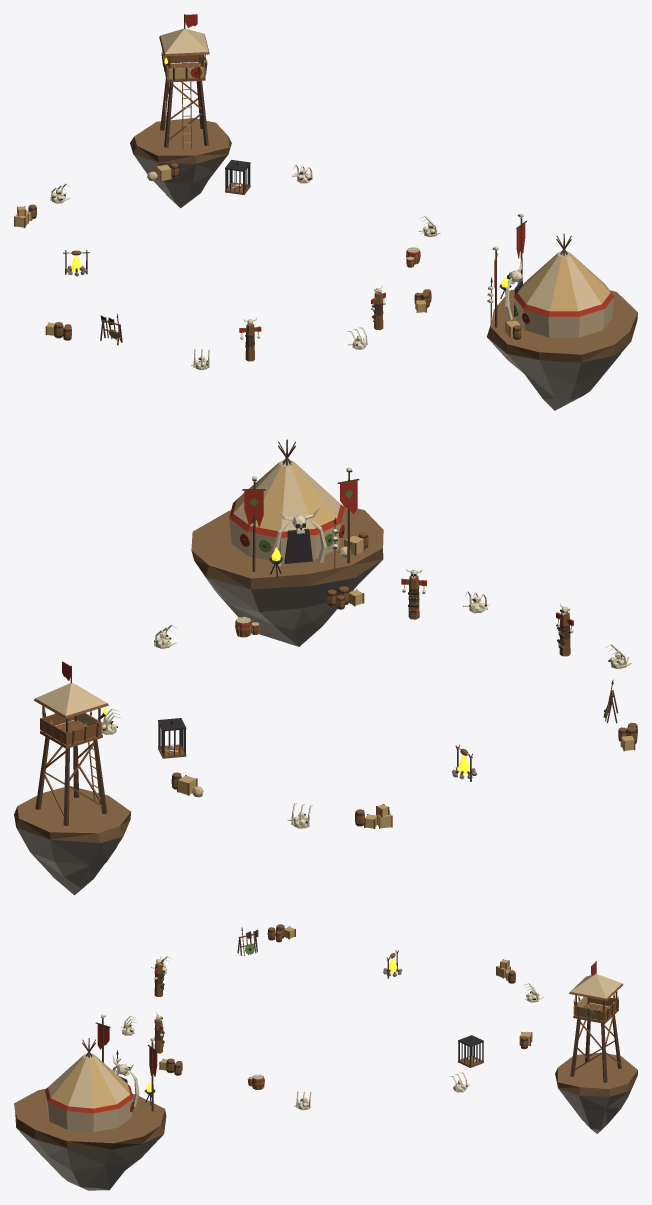
File: Kriegslager_Props.fbx
3 renders of one model, top to bottom at view 1: azimuth 30°, elevation 25°; view 2: azimuth 150°, elevation 25°; view 3: azimuth 270°, elevation 25°, orthographic. The views are drawn at different scales.
Visible parts, largest first — view 1: Kriegslager_Props; view 2: Kriegslager_Props; view 3: Kriegslager_Props.
Part boxes in pixels (<box>): Kriegslager_Props: <box>14,14,637,410</box>; Kriegslager_Props: <box>14,439,637,895</box>; Kriegslager_Props: <box>14,924,637,1190</box>.
Bounding box in the file's own units: 38.63 × 16.5 × 48.91.
